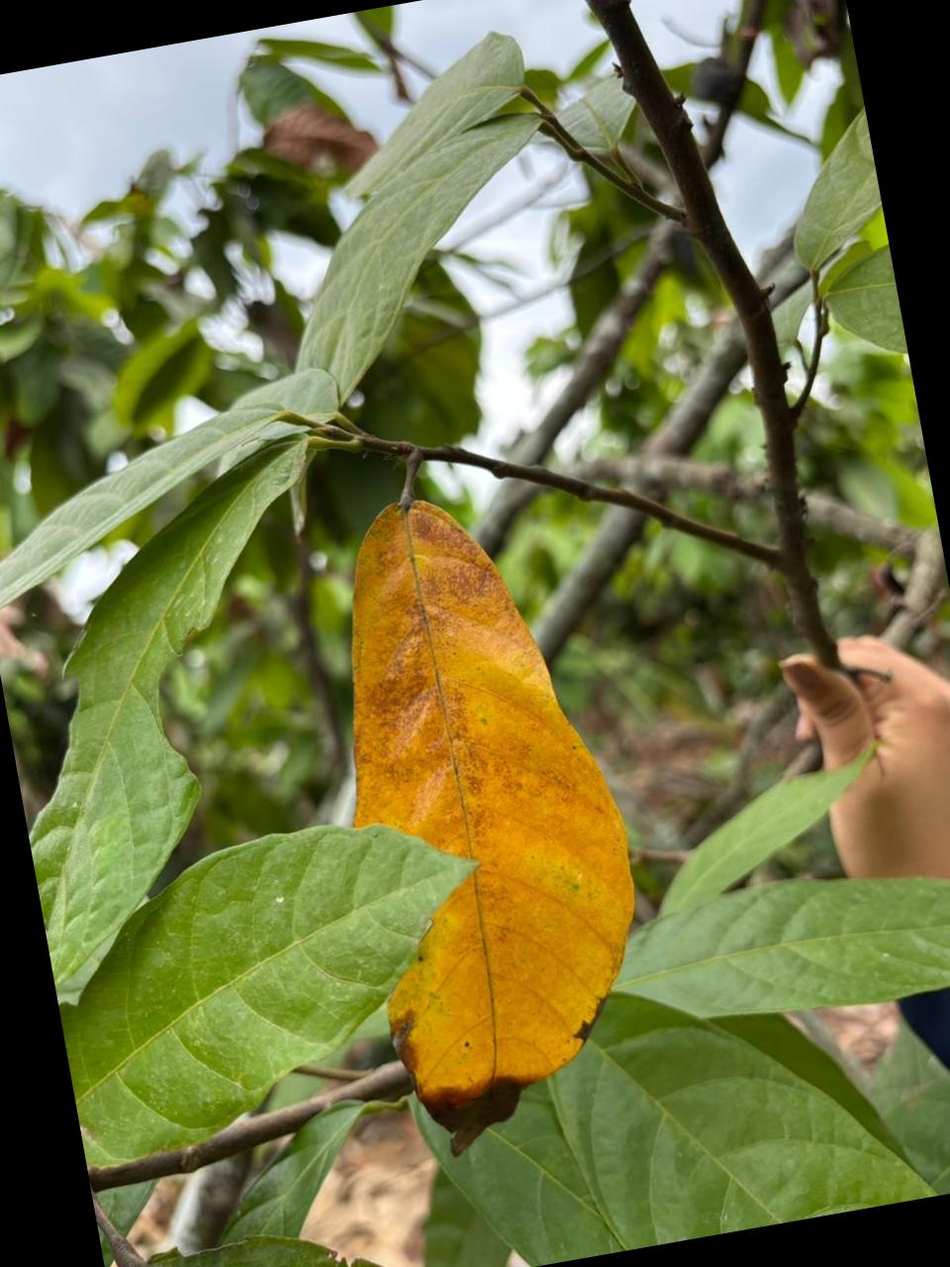Fosforo: (352, 502, 633, 1152)
